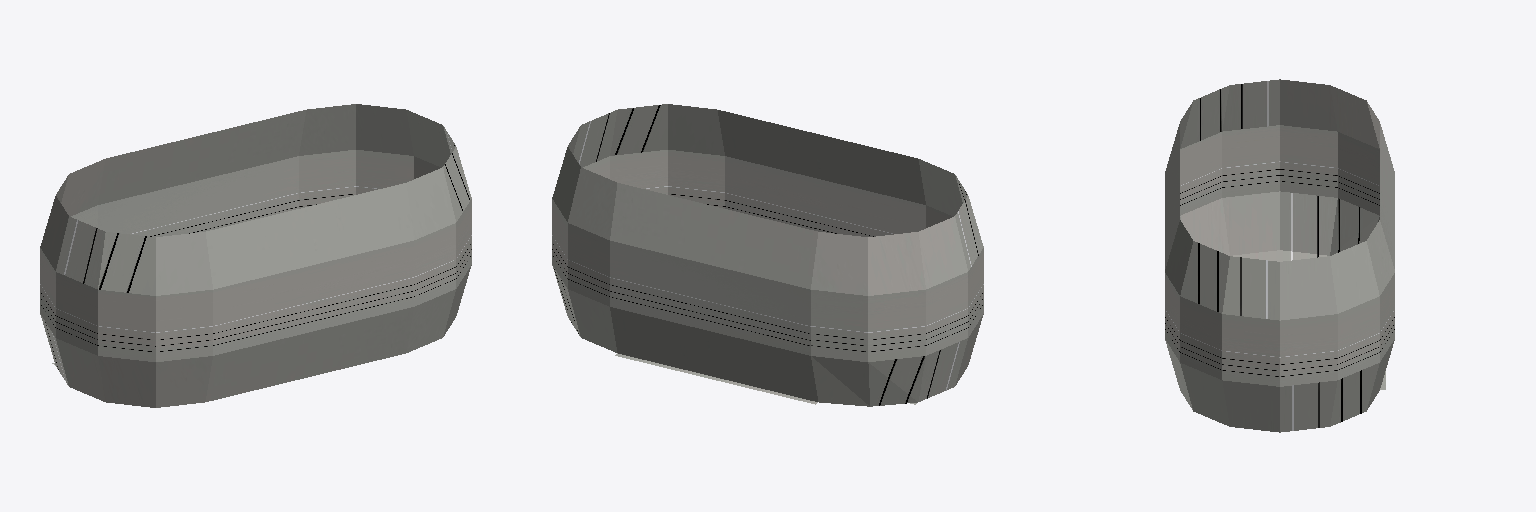
3 views of the same model, side by side, from view 1: azimuth 30°, elevation 25°; view 2: azimuth 150°, elevation 25°; view 3: azimuth 270°, elevation 25° (orthographic).
Parts seen in each view (by area): view 1: ChamferBox001; view 2: ChamferBox001; view 3: ChamferBox001.
Part boxes in pixels (x1,y1,x2,y2): ChamferBox001: (40,104,471,407); ChamferBox001: (552,104,983,406); ChamferBox001: (1165,79,1394,432).
Bounding box in the file's own units: 30.55 × 12.44 × 15.24.
Materials: 1 (1 with a texture image).